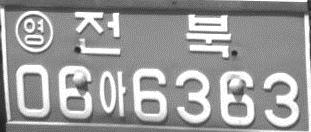0: (15, 63, 50, 118)
3: (262, 71, 299, 128), (175, 69, 211, 124)
6: (57, 65, 94, 120), (219, 69, 254, 127), (131, 67, 166, 122)
아: (98, 68, 128, 117)
영: (14, 10, 53, 54)
전북_D: (73, 10, 232, 58)
